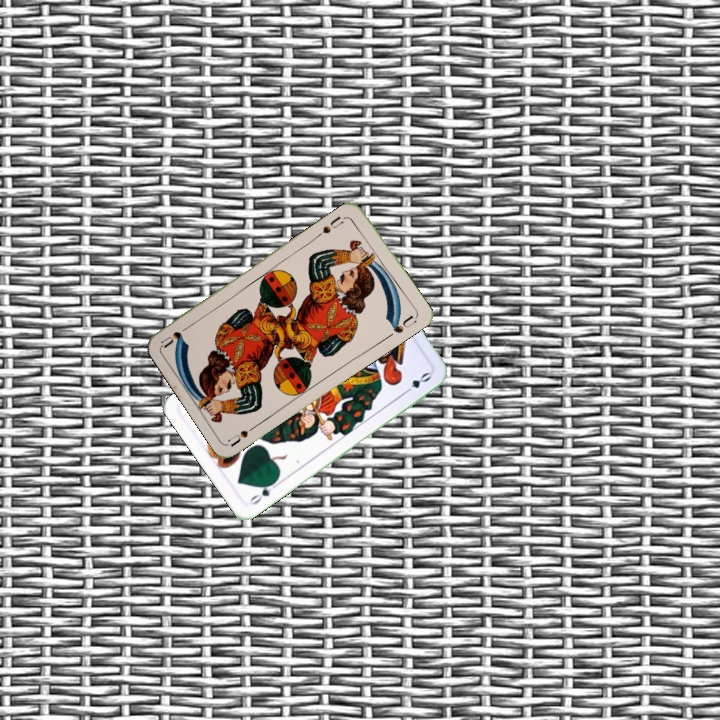GO: (245, 477, 279, 508)
SU: (225, 419, 262, 448), (314, 212, 346, 239)
